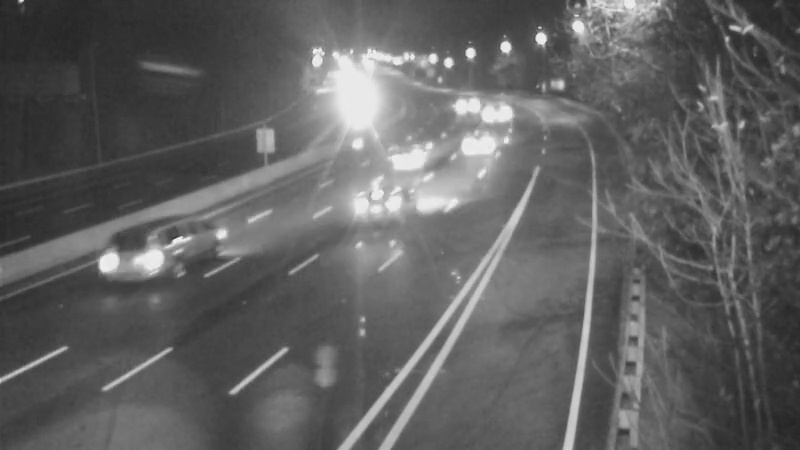vehicle: (378, 115, 458, 195), (341, 162, 421, 242), (105, 198, 185, 278), (437, 83, 487, 133), (466, 84, 516, 134), (452, 118, 502, 168)
